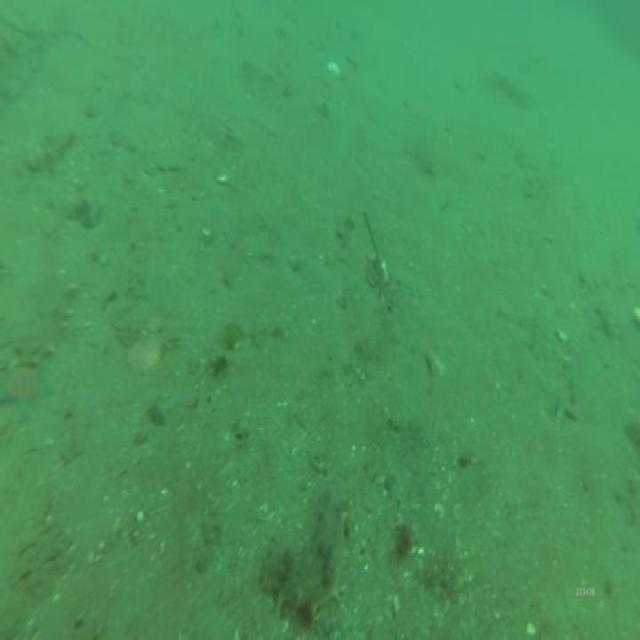holothurian: (259, 484, 344, 614)
starfish: (1, 358, 55, 418)
